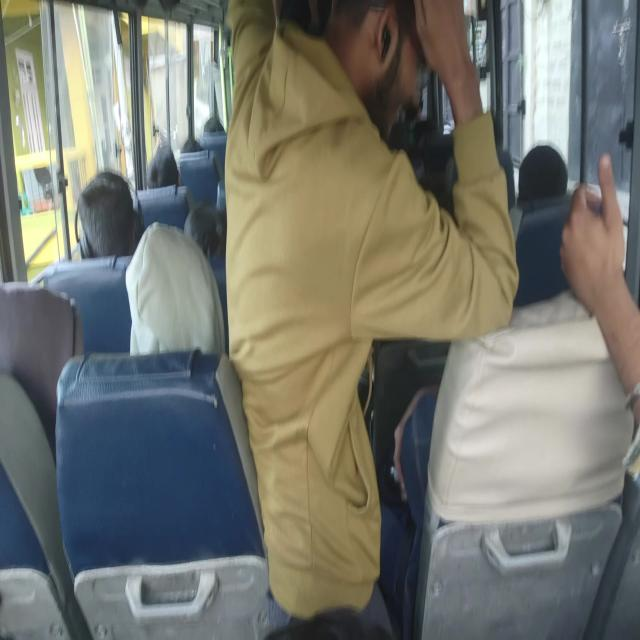person: (223, 0, 476, 429), (556, 218, 640, 458), (0, 294, 88, 416), (136, 231, 210, 358), (511, 140, 581, 210), (75, 180, 134, 258), (417, 126, 456, 197), (179, 201, 226, 259), (151, 146, 180, 192), (200, 104, 227, 152), (179, 125, 212, 162)
